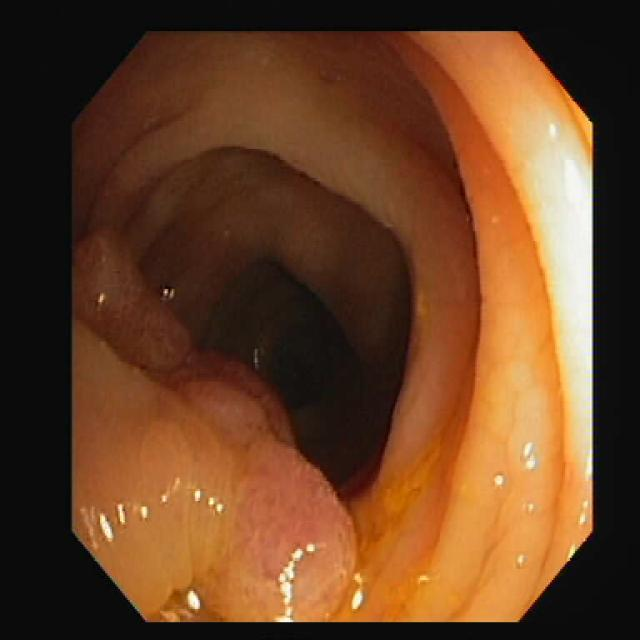tumor: (75, 231, 353, 620)
